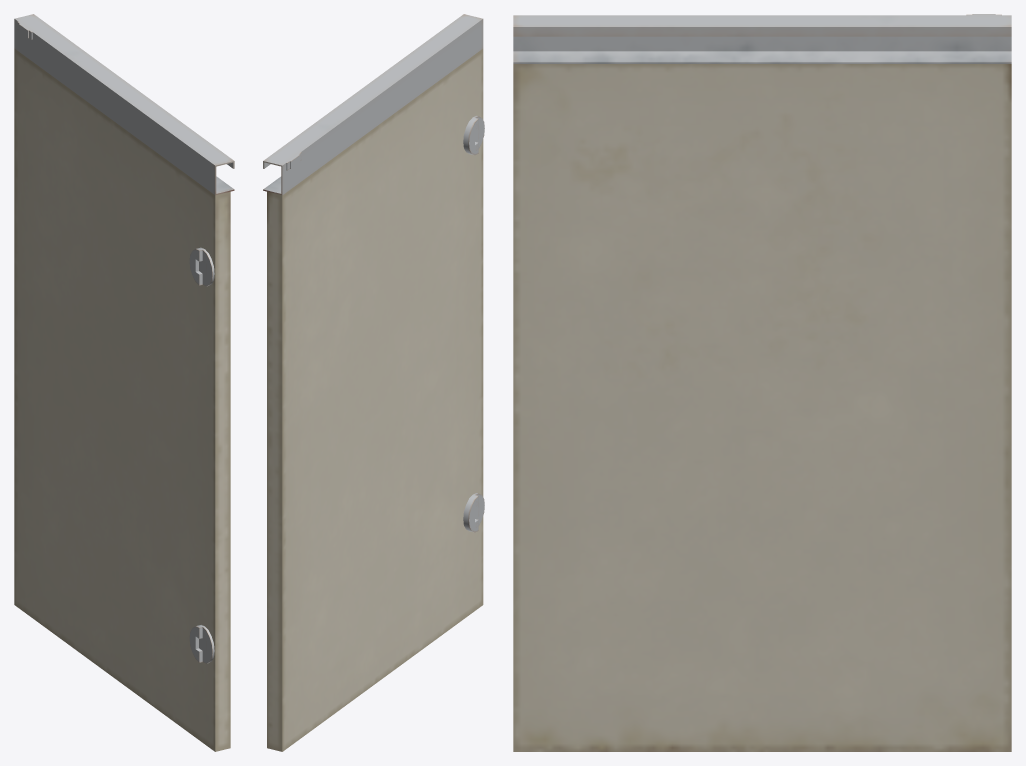
Rendered from FurnitureKicthen03_DoorDownLeft01.FBX.
3 views of the same model, side by side, from view 1: azimuth 30°, elevation 25°; view 2: azimuth 150°, elevation 25°; view 3: azimuth 270°, elevation 25° (orthographic). The views are drawn at different scales.
Parts seen in each view (by area): view 1: FurnitureKicthen03_DoorDownLeft01; view 2: FurnitureKicthen03_DoorDownLeft01; view 3: FurnitureKicthen03_DoorDownLeft01.
Part boxes in pixels (bbox=[...]): FurnitureKicthen03_DoorDownLeft01: bbox=[14, 14, 234, 751]; FurnitureKicthen03_DoorDownLeft01: bbox=[263, 14, 484, 751]; FurnitureKicthen03_DoorDownLeft01: bbox=[513, 14, 1011, 751].
Size of the model in its own units: 3.24 by 45 by 72.5.
